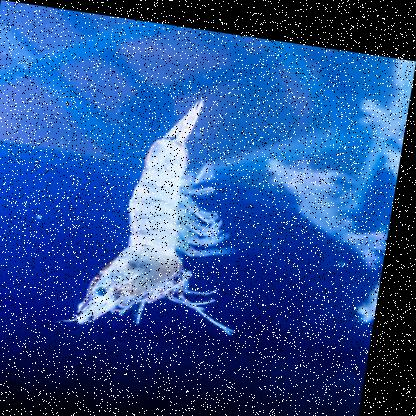shrimp: (81, 79, 267, 345)
